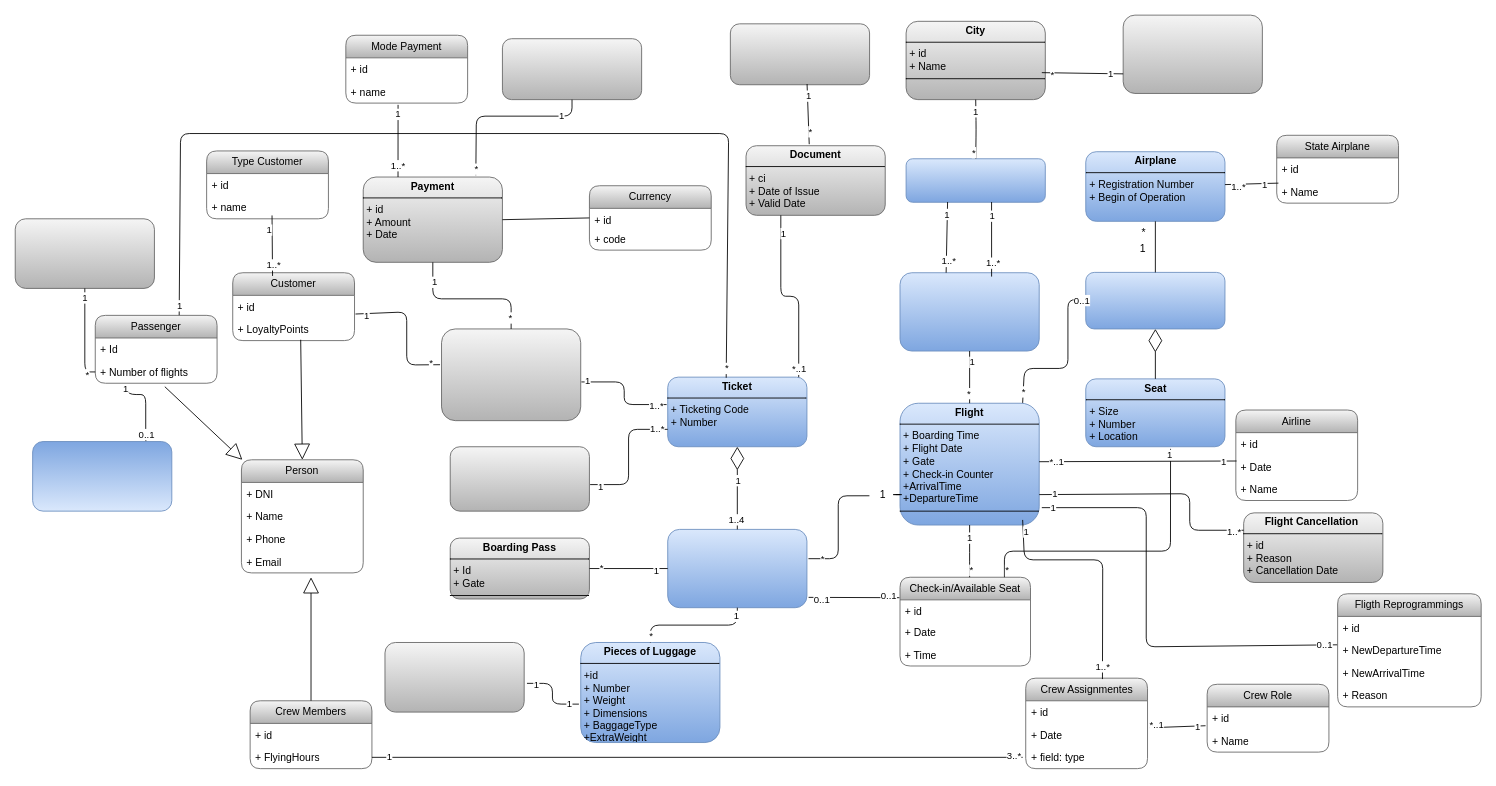
This 1496x786 diagram has some shape labels left out. The shapes that lost their labels are listed below. From the top down, each one's centre as x and y in pixels, then its label:
At (x=572, y=69): "Type Payment + id + Name".
At (x=799, y=54): "Type Document + id + Name".
At (x=1192, y=53): "Country + id + name".
At (x=975, y=180): "Airport + Name".
At (x=84, y=253): "Type Passenger + id + Name".
At (x=969, y=311): "Flight Number + Departure Time + Description + Type".
At (x=1155, y=300): "Plane Model + Description + Graphic".
At (x=511, y=374): "Reserve + id + State + Reservation Date + Total amount + Ticket count".
At (x=102, y=476): "Frequent Flyer Card + FFC Number + Miles + MealCode".
At (x=519, y=478): "Category + id + Name + price".
At (x=737, y=568): "Coupon + Date of Redemption + Class + Standby + Meal Code".
At (x=454, y=677): "Baggege Check-in + Id + Prohibited Items + Weigth".
